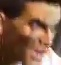kevin: (5, 2, 60, 64)
